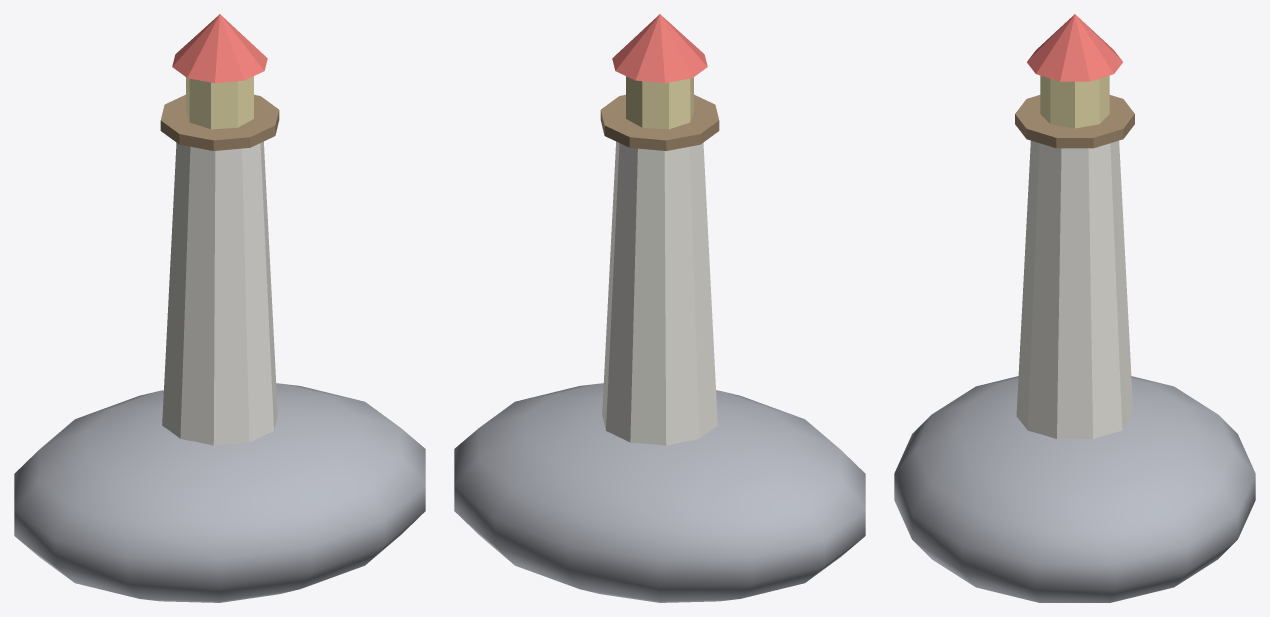
Rendered from ocean__lighthouse.fbx.
The picture shows the model from 3 angles, left to right: view 1: azimuth 30°, elevation 25°; view 2: azimuth 150°, elevation 25°; view 3: azimuth 270°, elevation 25°; orthographic projection.
Visible parts, largest first — view 1: ocean__lighthouse; view 2: ocean__lighthouse; view 3: ocean__lighthouse.
Boxes of the visible parts, x1,y1,x2,y2 form: ocean__lighthouse: (14, 14, 425, 602); ocean__lighthouse: (454, 14, 865, 602); ocean__lighthouse: (894, 14, 1255, 602).
Bounding box in the file's own units: 4.38 × 6.25 × 3.74.
